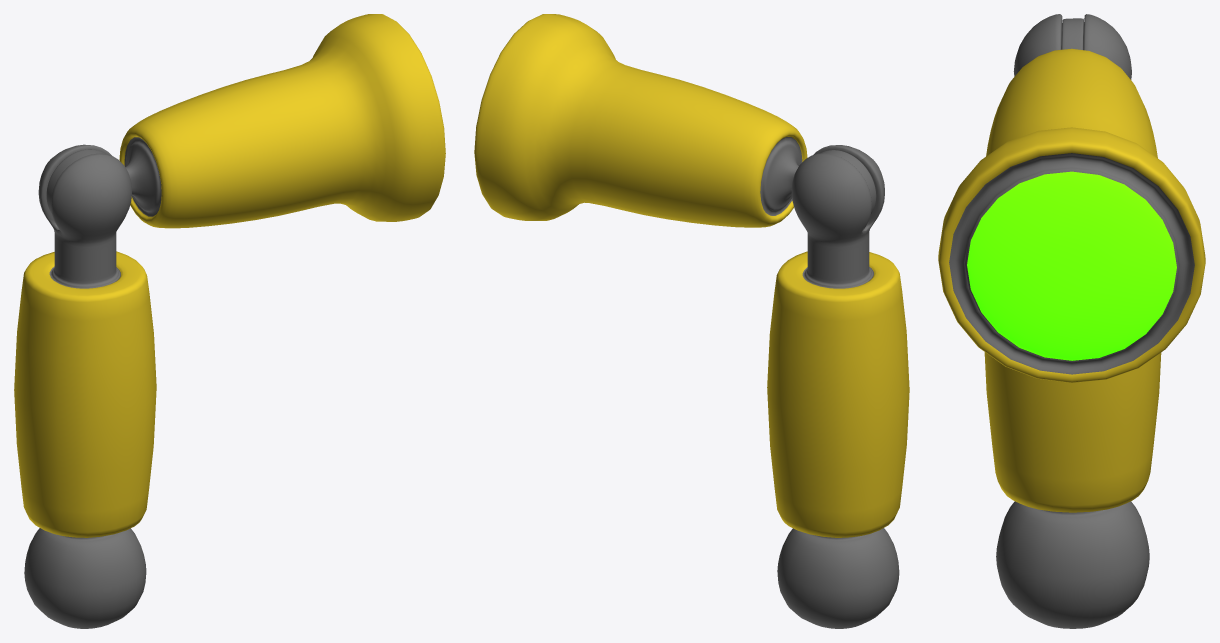
File: SubArmGrabDES.fbx
3 renders of one model, left to right at view 1: azimuth 30°, elevation 25°; view 2: azimuth 150°, elevation 25°; view 3: azimuth 270°, elevation 25°, orthographic. The views are drawn at different scales.
Visible parts, largest first — view 1: Upper Arm, Lower Arm; view 2: Upper Arm, Lower Arm; view 3: Lower Arm, Upper Arm.
Part boxes in pixels (<box>): Upper Arm: <box>14,144,156,628</box>; Lower Arm: <box>46,14,445,228</box>; Upper Arm: <box>767,145,909,628</box>; Lower Arm: <box>474,14,876,227</box>; Lower Arm: <box>938,18,1205,382</box>; Upper Arm: <box>984,14,1161,628</box>.
Size of the model in its own units: 167 by 217 by 78.16.
